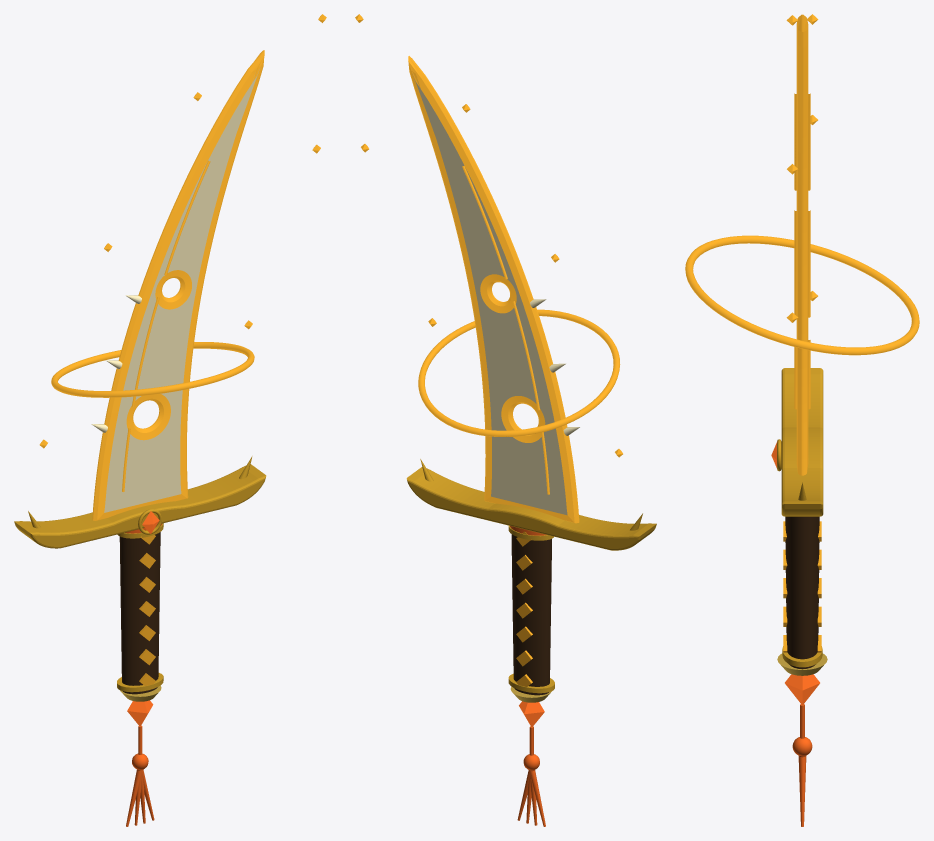
Rendered from 27_Legendary_Solar_Reaper.glb.
The picture shows the model from 3 angles, left to right: view 1: azimuth 30°, elevation 25°; view 2: azimuth 150°, elevation 25°; view 3: azimuth 270°, elevation 25°; orthographic projection. The views are drawn at different scales.
Parts seen in each view (by area): view 1: blade_2, guard_wing_0, handle_3, aura_ring_27; view 2: blade_2, guard_wing_0, handle_3, aura_ring_27; view 3: blade_2, guard_wing_0, handle_3, aura_ring_27, pommel_gem_20, pommel_cap_19.
Part boxes in pixels (left/top/right/bottom): blade_2: left=92, top=50, right=264, bottom=520; guard_wing_0: left=14, top=464, right=266, bottom=548; handle_3: left=119, top=532, right=160, bottom=694; aura_ring_27: left=51, top=342, right=254, bottom=397; blade_2: left=408, top=56, right=579, bottom=523; guard_wing_0: left=406, top=467, right=656, bottom=550; handle_3: left=511, top=534, right=551, bottom=695; aura_ring_27: left=418, top=309, right=620, bottom=436; blade_2: left=796, top=14, right=808, bottom=475; guard_wing_0: left=781, top=368, right=823, bottom=516; handle_3: left=785, top=516, right=819, bottom=669; aura_ring_27: left=685, top=235, right=919, bottom=355; pommel_gem_20: left=785, top=674, right=819, bottom=704; pommel_cap_19: left=777, top=653, right=827, bottom=675.
Size of the model in its own units: 0.4095 by 1 by 0.2345.
10 materials, 10 textured.
